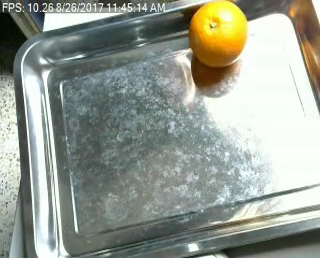Orange: (189, 1, 248, 66)
